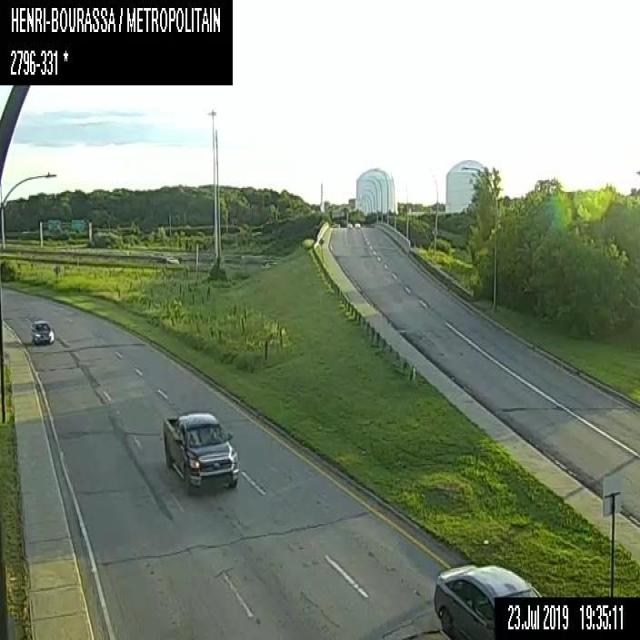vehicle: (432, 561, 542, 639), (163, 409, 239, 494), (30, 318, 55, 346), (166, 256, 178, 262), (346, 222, 352, 227), (354, 222, 360, 227)
